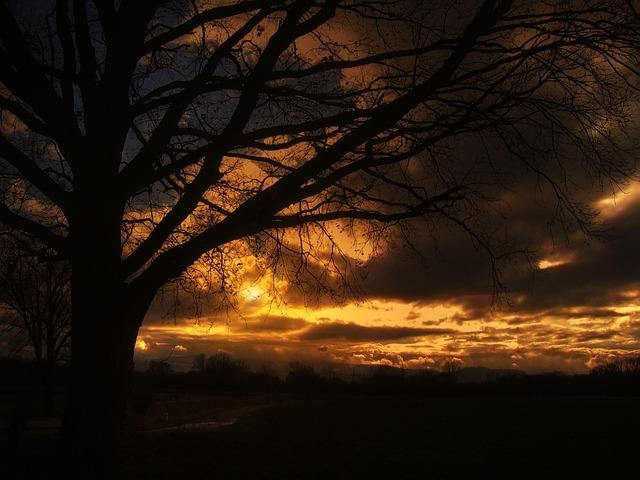Non_Gorille: (64, 64, 572, 386)
